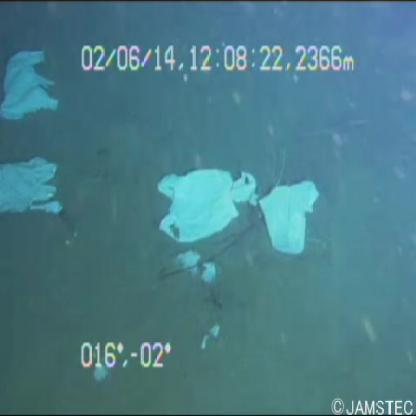Rác: (144, 152, 263, 240), (1, 136, 72, 224), (250, 171, 326, 250), (0, 40, 62, 132)
